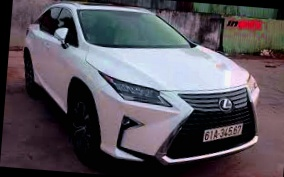Bien-so: (200, 123, 237, 149)
